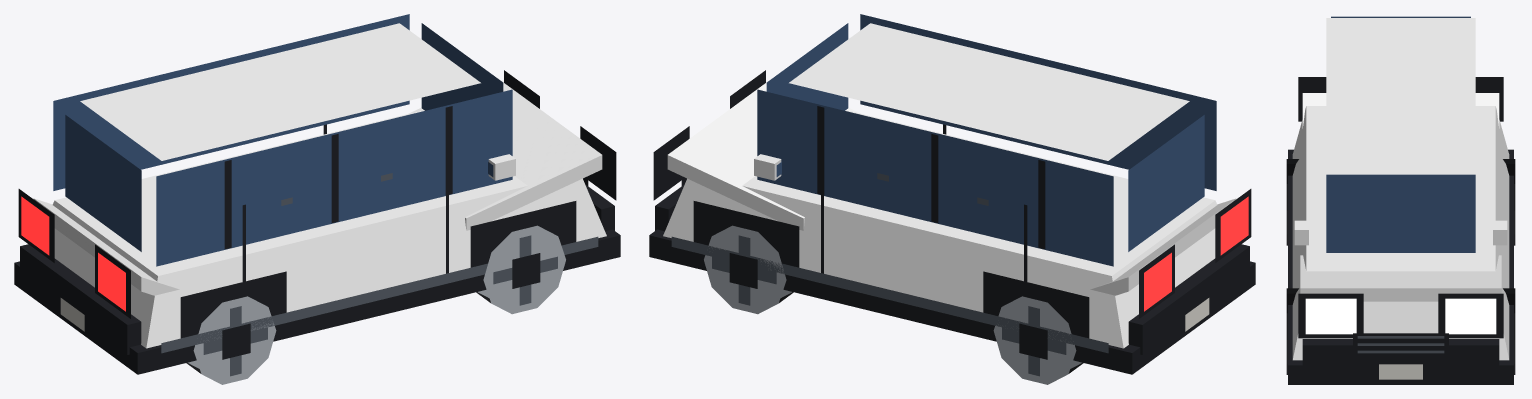
The model's file is car_minivan.glb.
3 renders of one model, left to right at view 1: azimuth 30°, elevation 25°; view 2: azimuth 150°, elevation 25°; view 3: azimuth 270°, elevation 25°, orthographic. The views are drawn at different scales.
Visible parts, largest first — view 1: car_minivan; view 2: car_minivan; view 3: car_minivan.
Part boxes in pixels (<box>): car_minivan: <box>14,14,620,384</box>; car_minivan: <box>649,14,1255,384</box>; car_minivan: <box>1286,16,1515,384</box>.
Size of the model in its own units: 0.4261 by 0.1808 by 0.1924.
